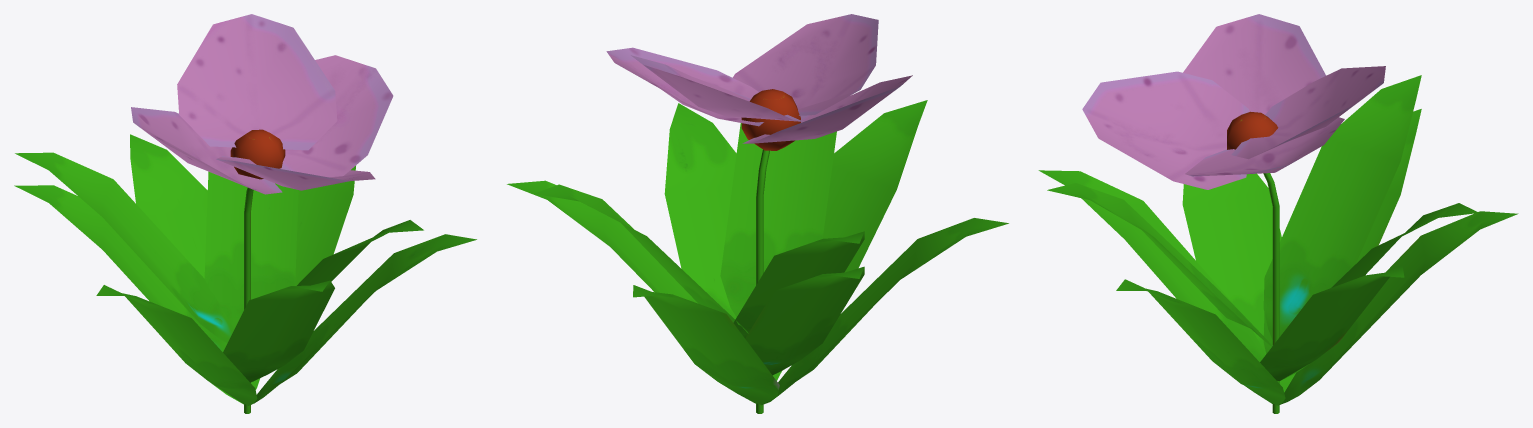
Rendered from Model_Flower3.fbx.
3 renders of one model, left to right at view 1: azimuth 30°, elevation 25°; view 2: azimuth 150°, elevation 25°; view 3: azimuth 270°, elevation 25°, orthographic. The views are drawn at different scales.
Parts seen in each view (by area): view 1: Plane.008; view 2: Plane.008; view 3: Plane.008.
Boxes of the visible parts, <box> form: Plane.008: <box>14,14,476,413</box>; Plane.008: <box>507,14,1008,413</box>; Plane.008: <box>1038,14,1518,413</box>.
Bounding box in the file's own units: 563 × 512 × 623.
